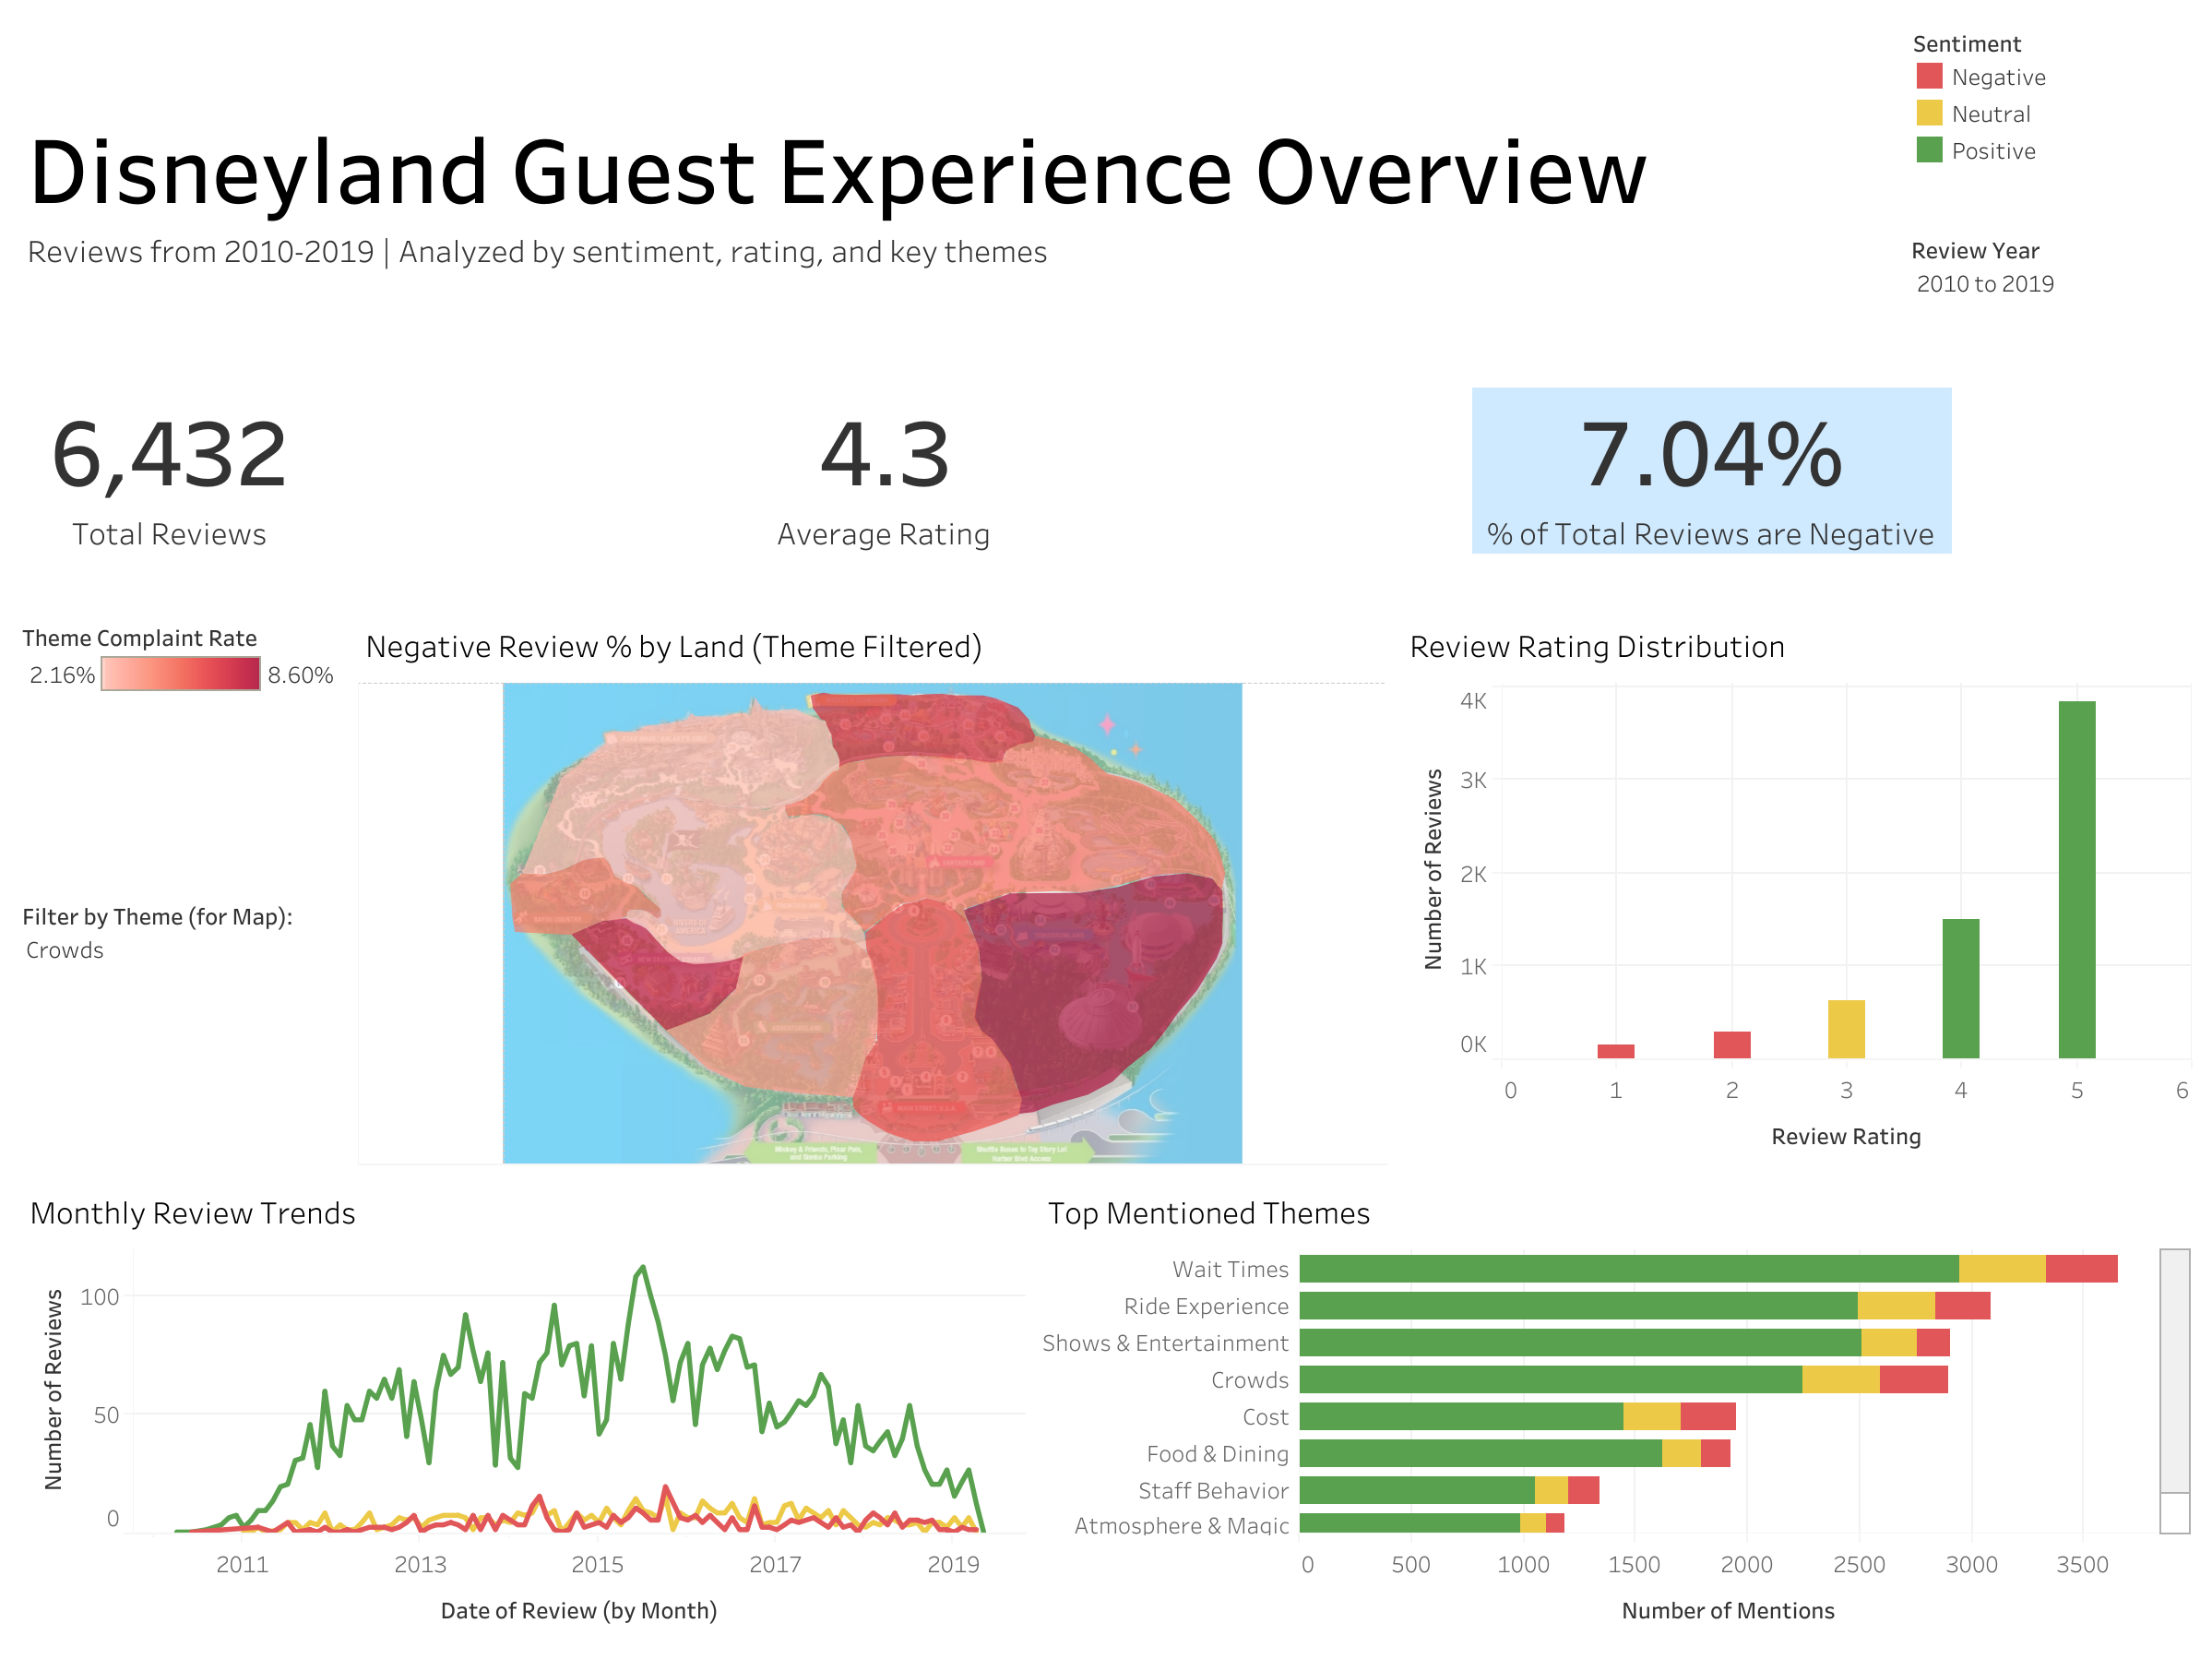

The page's visual inventory and layout, read from the dashboard file:
{"tool":"tableau","page":{"name":"Disneyland Guest Experience","canvas":[1200,900],"ordinal":0},"visuals":[{"type":"text","box":[8,8,1024,188.3]},{"type":"legend","title":"Review Volume Over Time by Sentiment","param":"[federated.0jdlttf06a8mla1f0ukgg1rxgpls].[none:Sentiment:nk]","box":[1032,8,160,112.8]},{"type":"filter","title":"Review Rating Distribution","param":"[federated.0jdlttf06a8mla1f0ukgg1rxgpls].[none:Calculation_204139768011210752:qk","box":[1032,120.8,160,75.5]},{"type":"worksheet","title":"KPI - Total Reviews","mark":"Automatic","box":[18,206,388,112]},{"type":"worksheet","title":"KPI - Average Rating","mark":"Automatic","box":[406,206,388,112]},{"type":"worksheet","title":"KPI - Negative %","mark":"Automatic","box":[794,206,388,112]},{"type":"legend","title":"Negative Review % by Land (Theme Filtered)","param":"[federated.0jdlttf06a8mla1f0ukgg1rxgpls].[usr:Calculation_2896870131004112896:qk","box":[8,328,182,154]},{"type":"worksheet","title":"Negative Review % by Land (Theme Filtered)","mark":"Polygon","rows":["Y"],"cols":["X"],"box":[190,328.2,566,306.7]},{"type":"worksheet","title":"Review Rating Distribution","mark":"Bar","rows":["Review_ID"],"cols":["Rating"],"box":[756,328.2,436,306.7]},{"type":"parameter","param":"[Parameters].[Parameter 1]","box":[8,482,182,153]},{"type":"worksheet","title":"Review Volume Over Time by Sentiment","mark":"Line","rows":["Review_ID"],"cols":["Calculation_2922836197618421760"],"box":[8,634.9,552,257.1]},{"type":"worksheet","title":"Top Mentioned Themes","mark":"Bar","box":[560,634.9,632,257.1]}]}

Visuals, with their boxes in screenshot pixels (x1, y1, x2, y2), scaled from the page's 1200x900 canvas onto the 2212x1659 screenshot:
text: region(15, 15, 1902, 362)
"Review Volume Over Time by Sentiment" legend: region(1902, 15, 2197, 222)
"Review Rating Distribution" filter: region(1902, 222, 2197, 362)
"KPI - Total Reviews" worksheet: region(33, 380, 748, 586)
"KPI - Average Rating" worksheet: region(748, 380, 1464, 586)
"KPI - Negative %" worksheet: region(1464, 380, 2179, 586)
"Negative Review % by Land (Theme Filtered)" legend: region(15, 604, 351, 889)
"Negative Review % by Land (Theme Filtered)" worksheet (Polygon marks): region(351, 605, 1394, 1170)
"Review Rating Distribution" worksheet (Bar marks): region(1394, 605, 2197, 1170)
parameter: region(15, 889, 351, 1171)
"Review Volume Over Time by Sentiment" worksheet (Line marks): region(15, 1170, 1032, 1644)
"Top Mentioned Themes" worksheet (Bar marks): region(1032, 1170, 2197, 1644)
